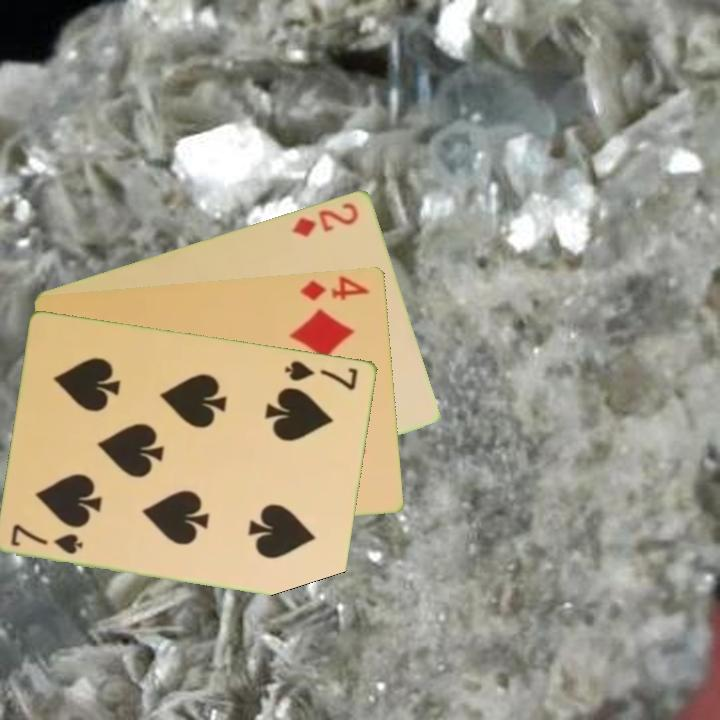2d: (289, 198, 362, 240)
4d: (297, 272, 373, 303)
7s: (7, 520, 87, 557), (282, 356, 361, 393)
